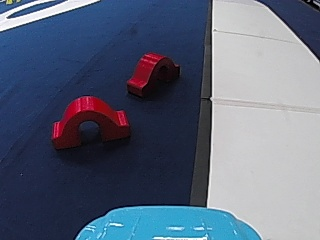bridge: (43, 92, 132, 147), (125, 48, 179, 99)
